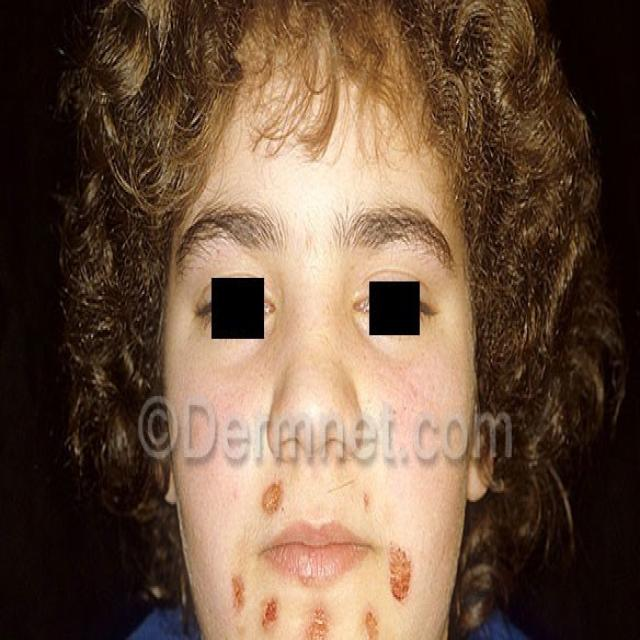Acne: (381, 538, 417, 604), (220, 564, 254, 619), (262, 475, 293, 521), (353, 604, 387, 640), (298, 606, 333, 640), (257, 593, 281, 640)
